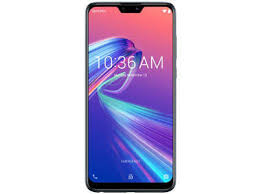asus: (84, 1, 178, 193)
